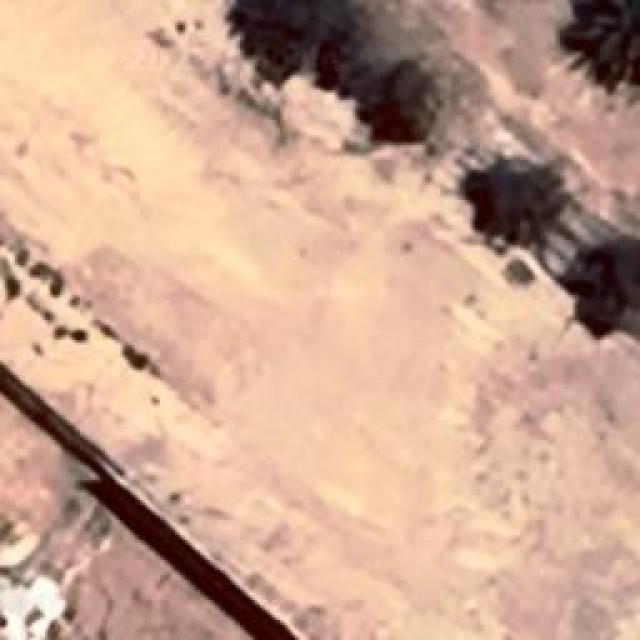PalmTree: (63, 40, 606, 80), (102, 34, 282, 68)
